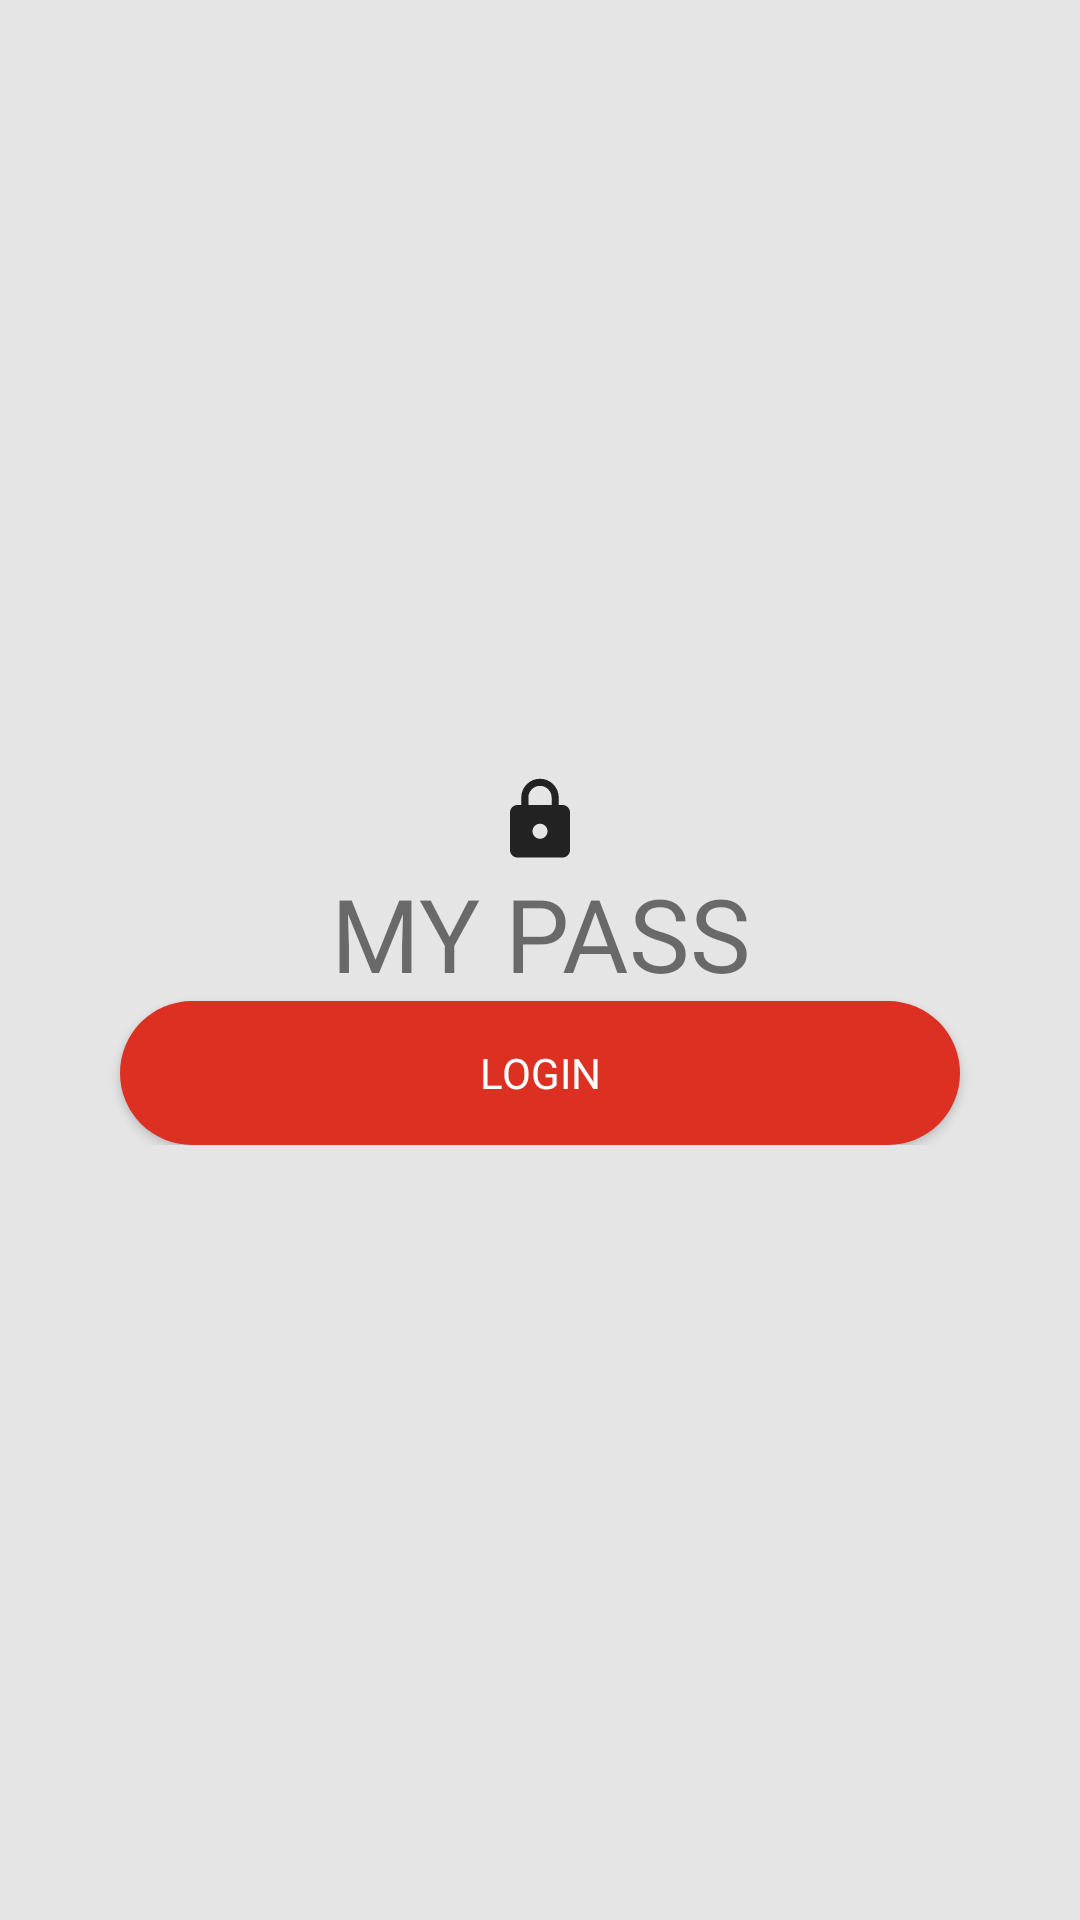

Named icons in this screenshot (1080px×1920px) and their bounding boxes, (x1, y1, x2, y2):
lock: (510, 778, 570, 858)
